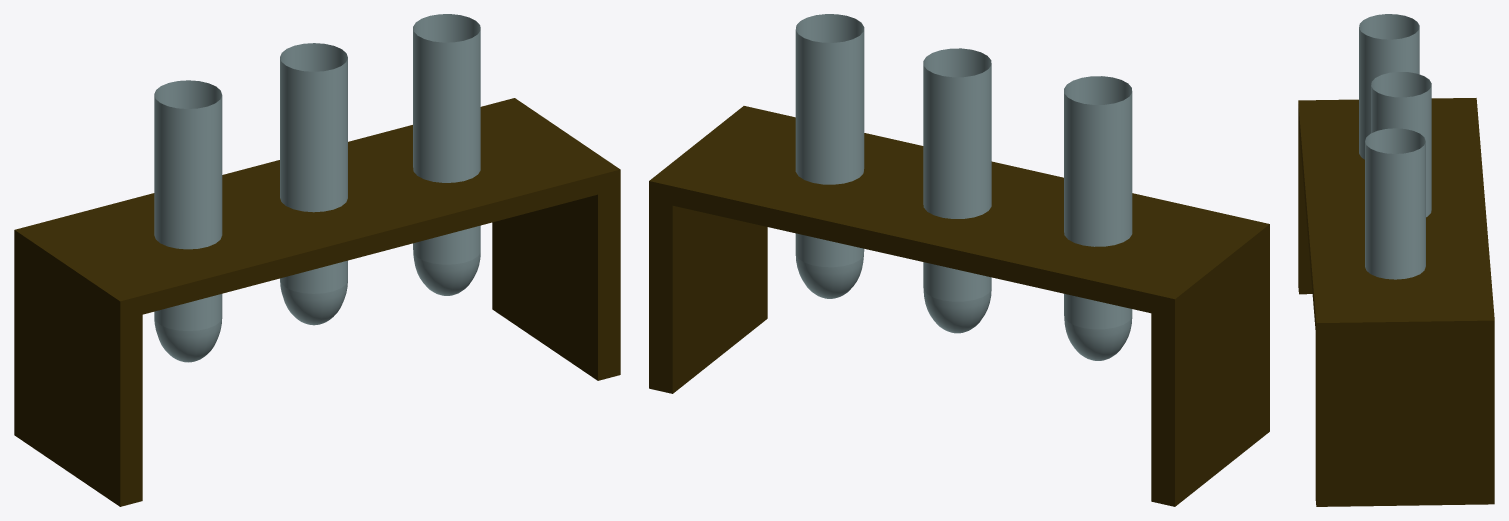
Rendered from Vials.fbx.
3 views of the same model, side by side, from view 1: azimuth 30°, elevation 25°; view 2: azimuth 150°, elevation 25°; view 3: azimuth 270°, elevation 25° (orthographic). The views are drawn at different scales.
Visible parts, largest first — view 1: pCube33, polySurface288, pSphere5, polySurface289; view 2: pCube33, polySurface289, pSphere5, polySurface288; view 3: pCube33, pSphere5, polySurface288, polySurface289.
Part boxes in pixels (left/top/right/bottom): pCube33: left=14, top=98, right=620, bottom=506; polySurface288: left=154, top=80, right=222, bottom=362; pSphere5: left=413, top=14, right=480, bottom=295; polySurface289: left=280, top=43, right=347, bottom=325; pCube33: left=649, top=106, right=1269, bottom=506; polySurface289: left=923, top=48, right=991, bottom=333; pSphere5: left=795, top=14, right=864, bottom=298; polySurface288: left=1064, top=76, right=1132, bottom=360; pCube33: left=1298, top=98, right=1494, bottom=506; pSphere5: left=1365, top=128, right=1425, bottom=279; polySurface288: left=1359, top=14, right=1419, bottom=159; polySurface289: left=1371, top=72, right=1431, bottom=217.
Bounding box in the file's own units: 1.97 × 1.26 × 0.7249.
